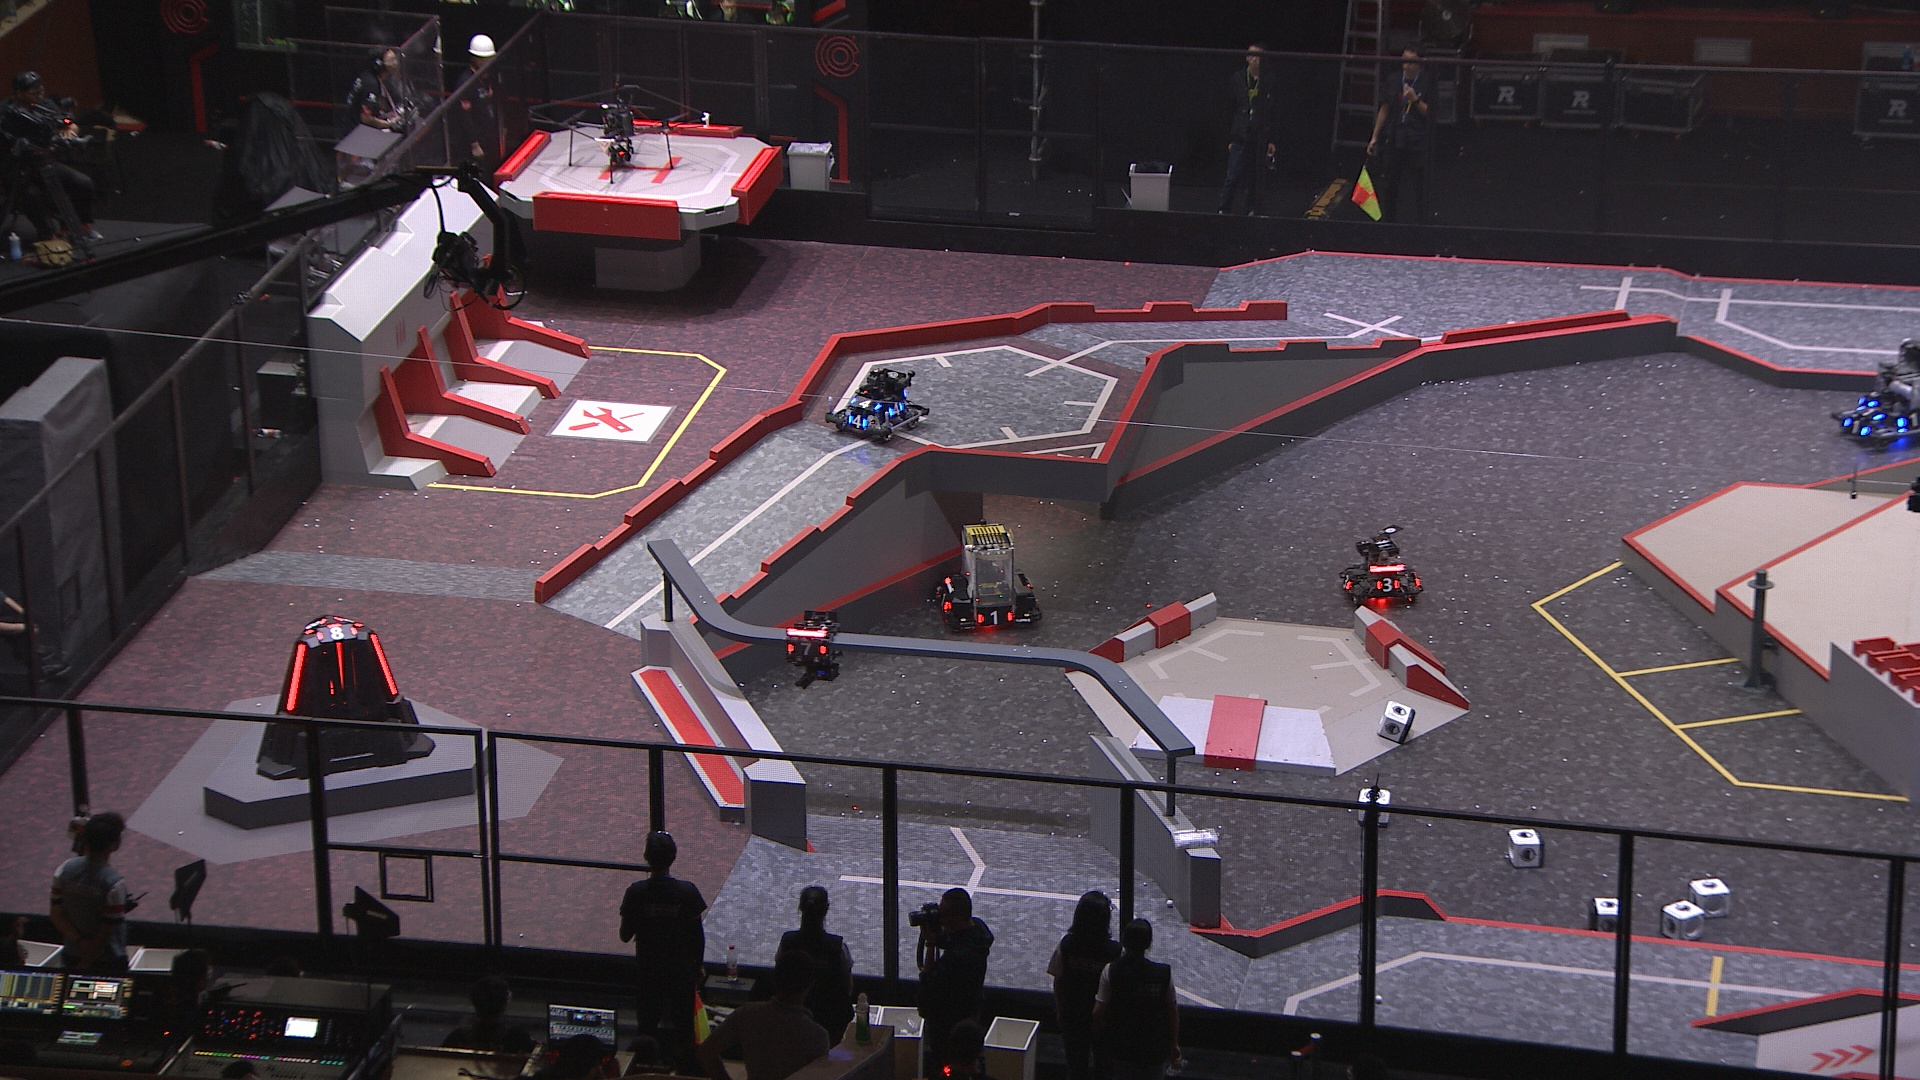armor: (367, 629, 400, 698), (285, 640, 309, 713), (314, 622, 361, 641), (785, 640, 828, 659), (975, 607, 1015, 626), (1851, 400, 1884, 423), (1840, 414, 1871, 438), (334, 642, 345, 692), (1371, 574, 1400, 593), (1894, 407, 1920, 429), (851, 396, 880, 410), (884, 401, 907, 418), (938, 589, 953, 615), (302, 617, 323, 636), (845, 414, 870, 429), (1338, 570, 1353, 593), (338, 615, 363, 628)
base: (251, 607, 436, 782)
car: (932, 518, 1044, 633), (1832, 342, 1920, 452), (822, 365, 928, 443), (1338, 524, 1425, 612)
watcher: (781, 607, 845, 692)
